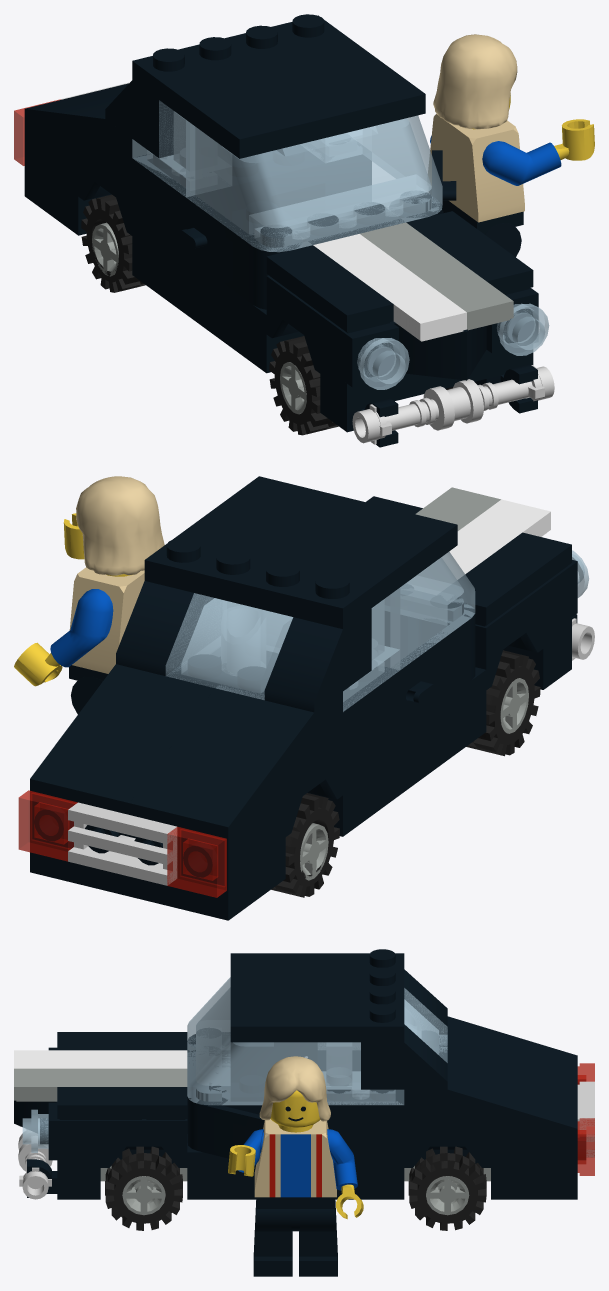
The model's file is vehicle_054_monaro_inlined_y_boxed_n_converted_y_imported_n.dae.
3 renders of one model, top to bottom at view 1: azimuth 30°, elevation 25°; view 2: azimuth 150°, elevation 25°; view 3: azimuth 270°, elevation 25°, orthographic. The views are drawn at different scales.
Size of the model in its own units: 159 by 268 by 108.
